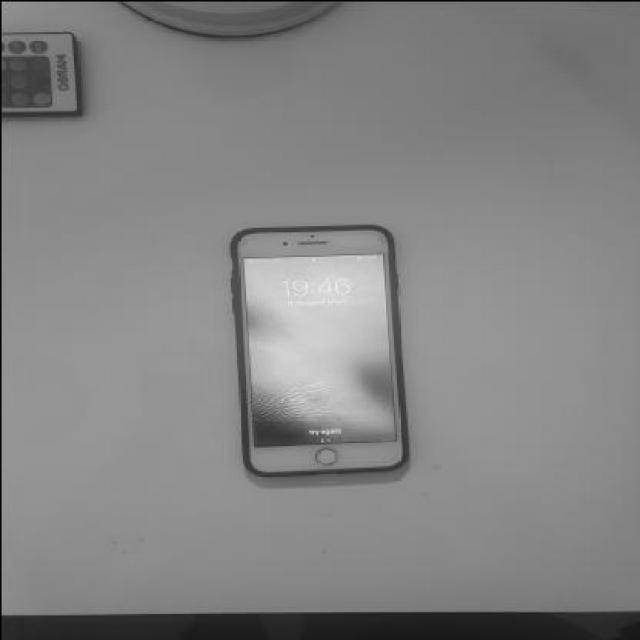fake: (232, 224, 406, 482)
